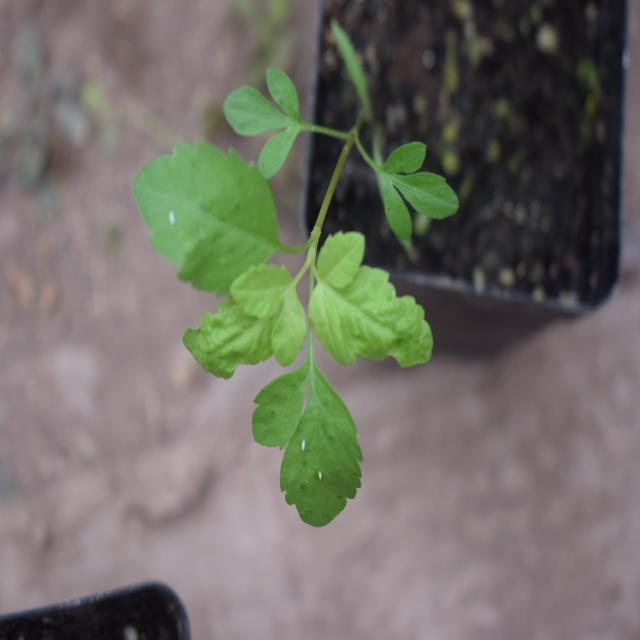Bidens pilosa: (140, 77, 447, 530)
